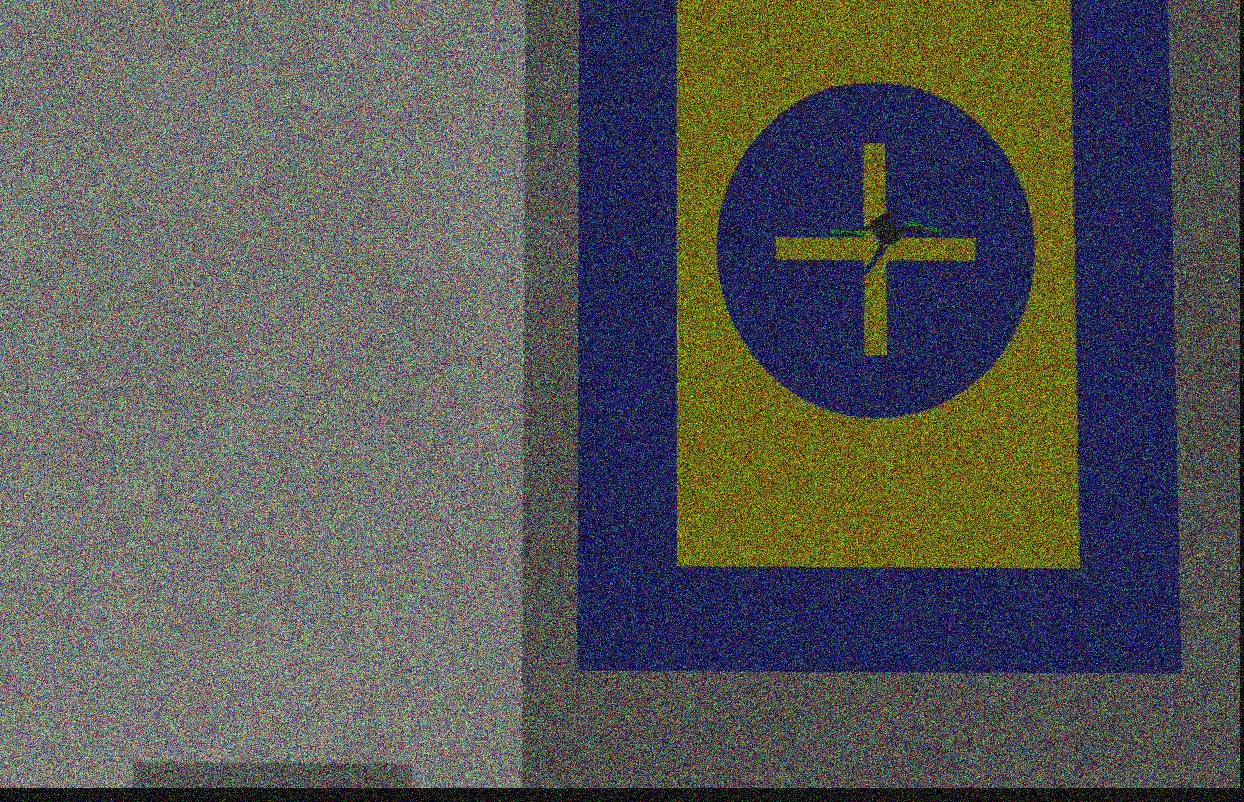large_base: (575, 1, 1184, 679)
